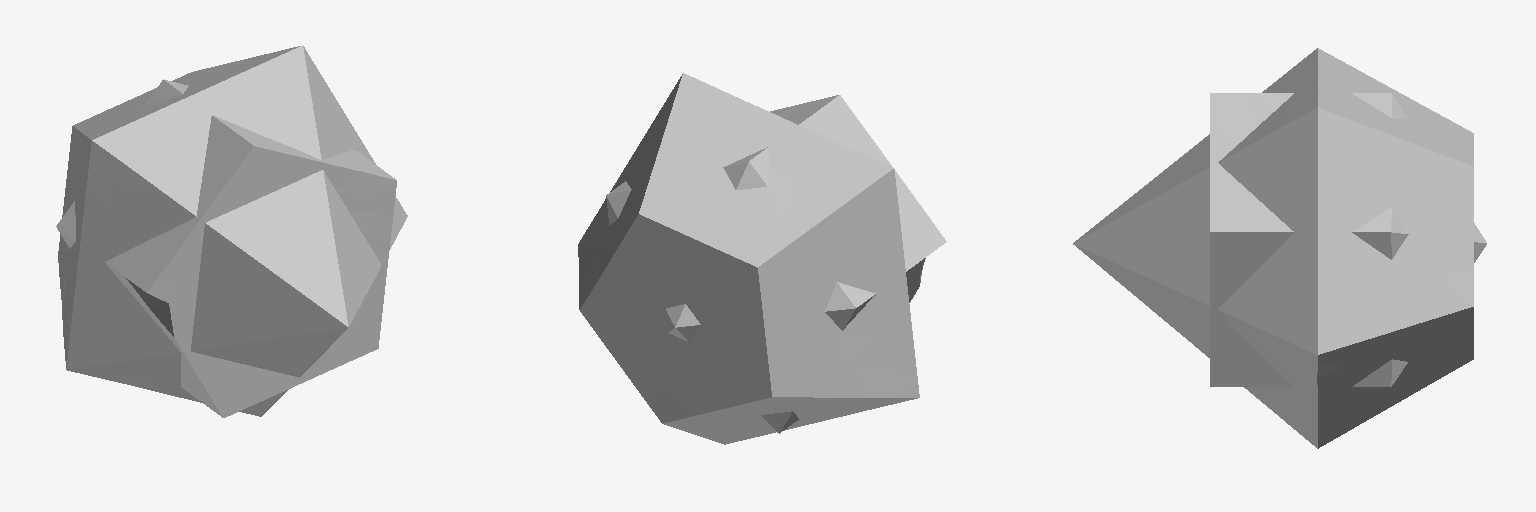
The model's file is compound_j9.stl__sf.obj.
3 renders of one model, left to right at view 1: azimuth 30°, elevation 25°; view 2: azimuth 150°, elevation 25°; view 3: azimuth 270°, elevation 25°, orthographic.
Bounding box in the file's own units: 53.1 × 53.72 × 55.85.